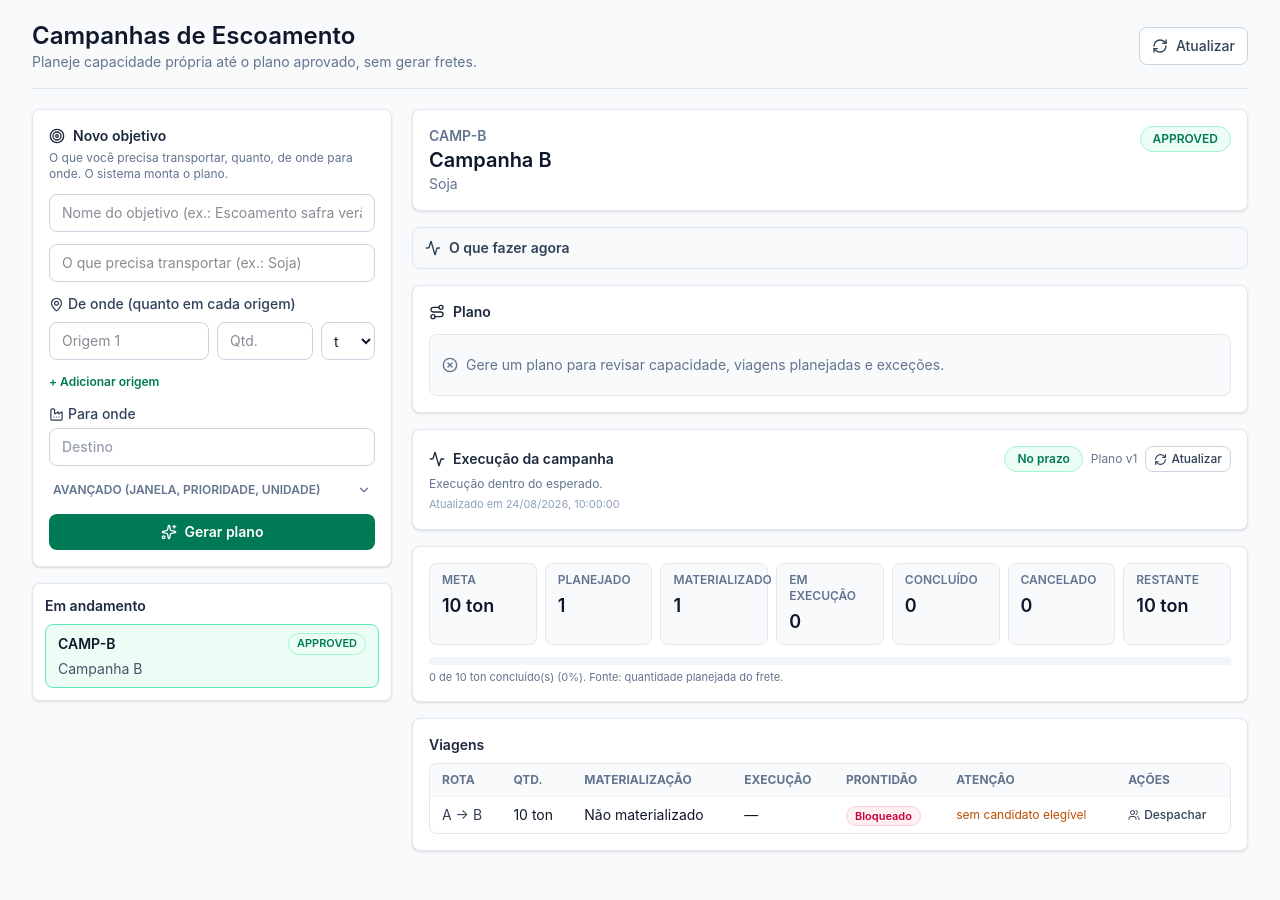
Scenario: CampaignExecution › elegibilidade: exibe candidatos, alertas e bloqueios ao clicar em "Despachar"
Click the button "Despachar" at (1167, 815), box [1128, 807, 1206, 823]
(page scrolled)
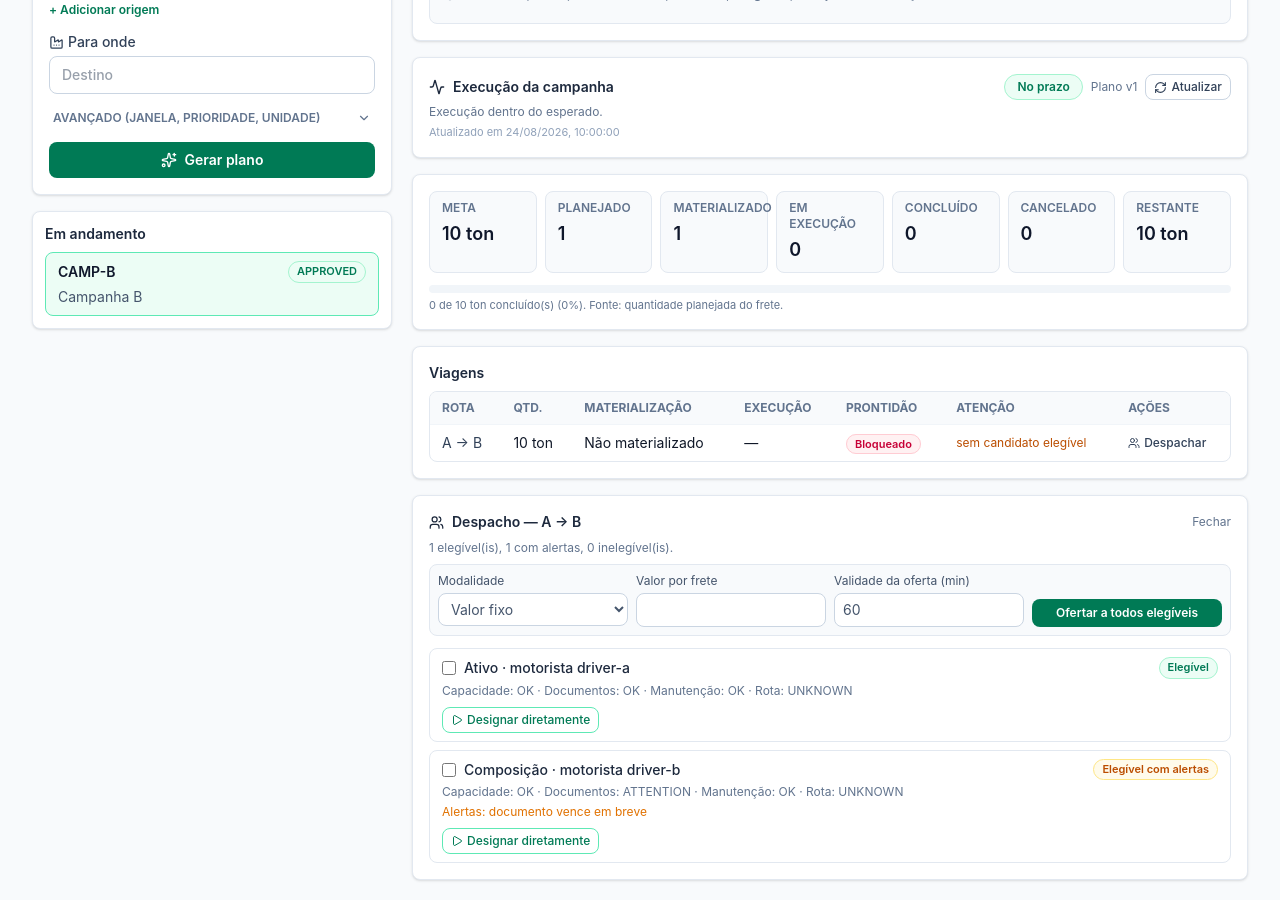
Expected: the text "1 elegível(is), 1 com alertas, 0 inelegível(is)." is shown, [429, 540, 673, 555]
Expected: the text "Elegível" is shown, [1158, 657, 1218, 679]
Expected: the text "Elegível com alertas" is shown, [1093, 759, 1218, 780]
